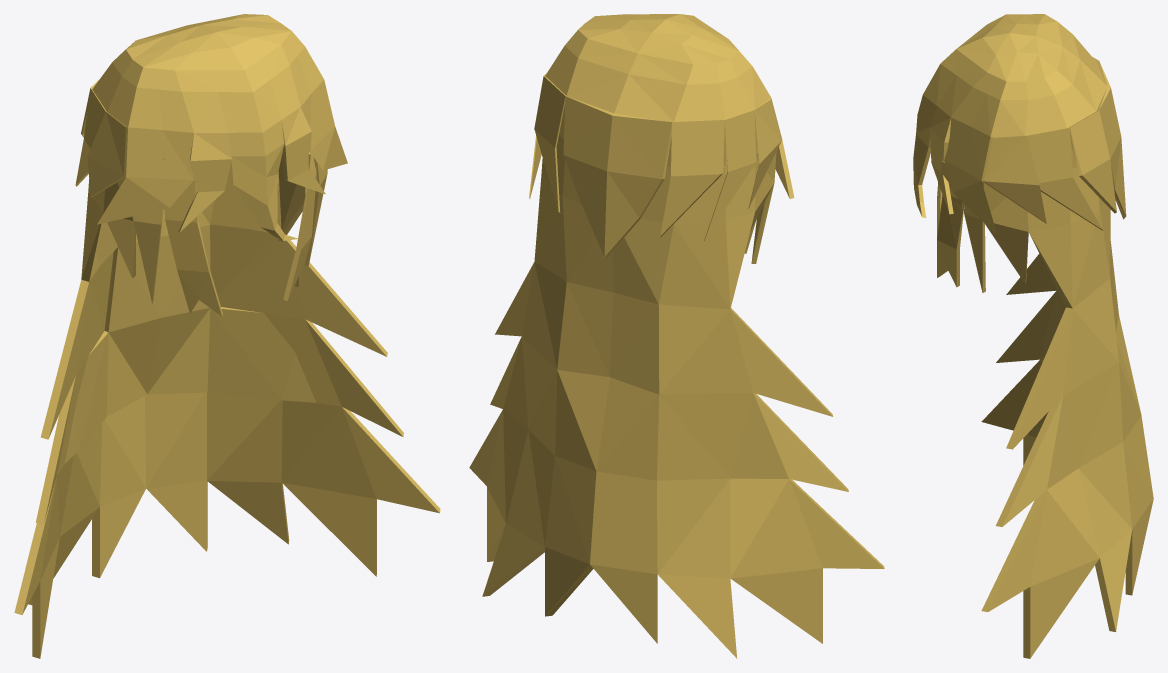
Rendered from MikhaelHair.fbx.
3 renders of one model, left to right at view 1: azimuth 30°, elevation 25°; view 2: azimuth 150°, elevation 25°; view 3: azimuth 270°, elevation 25°, orthographic. The views are drawn at different scales.
Visible parts, largest first — view 1: Hair; view 2: Hair; view 3: Hair.
Boxes of the visible parts, <box> form: Hair: <box>14,14,440,658</box>; Hair: <box>469,14,884,658</box>; Hair: <box>913,14,1153,658</box>.
Size of the model in its own units: 98.04 by 130 by 51.67.
1 material, 1 textured.
